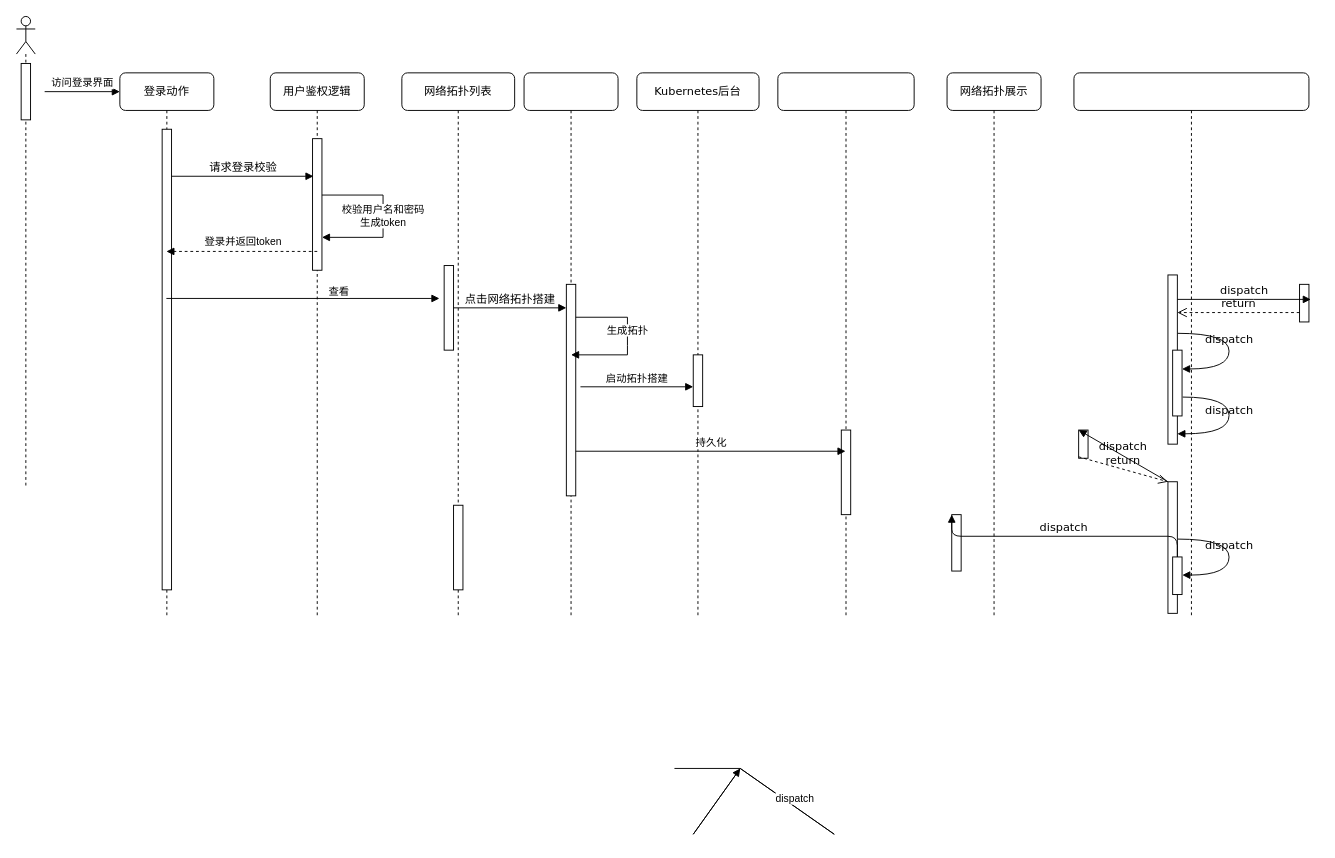
Some shapes in this 1335 by 858 pixel diagram are drawn without their labels. Each missing label, with the box of its shape:
:Object: (1073, 72, 1309, 618)
数据库: (777, 72, 914, 618)
网络拓扑搭建: (523, 72, 618, 618)
